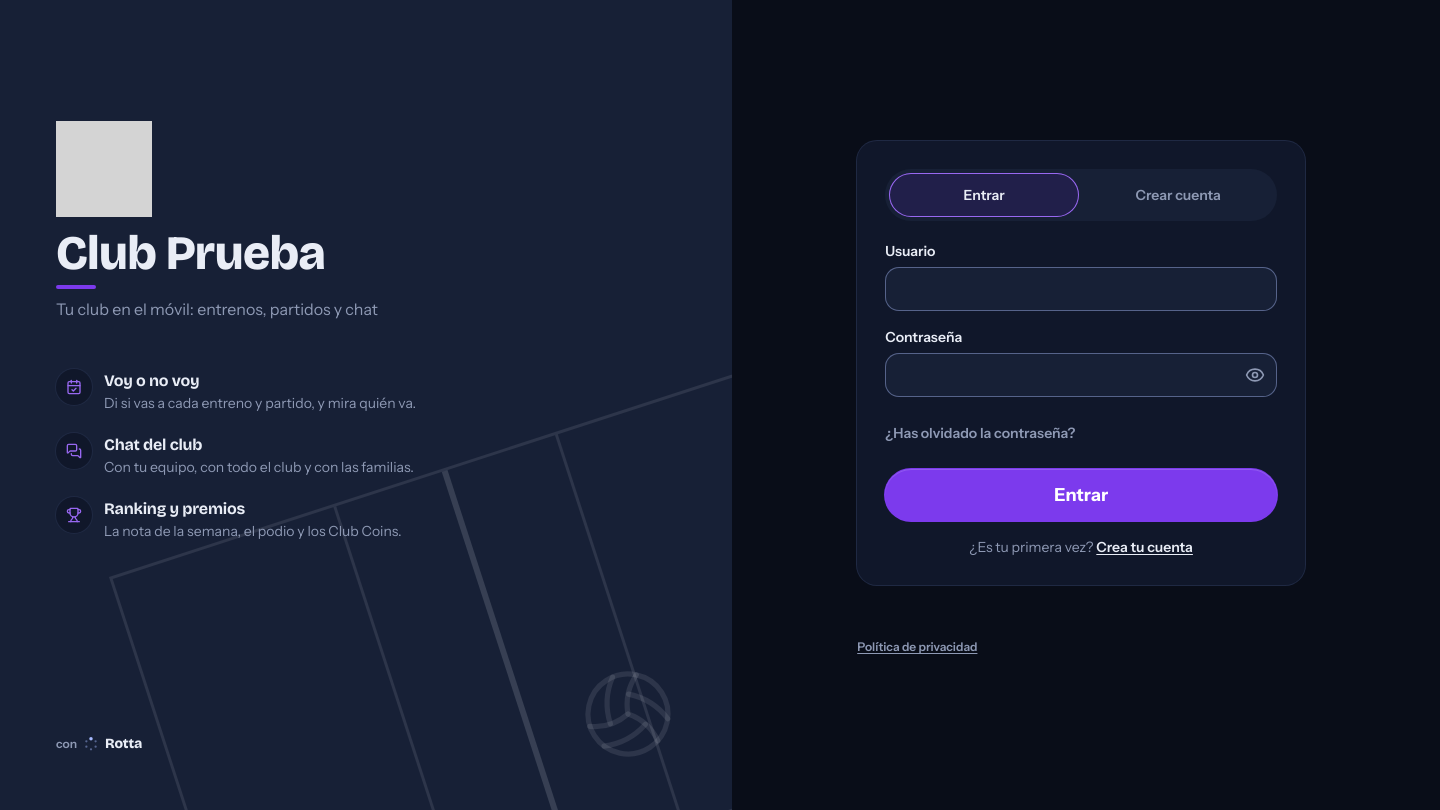
it: LoginPage › demasiados intentos (429): se enseña el aviso del servidor
Step 1. Type "ana.prueba" into the field labelled "Usuario" → (1081, 289), box [885,267,1277,311]
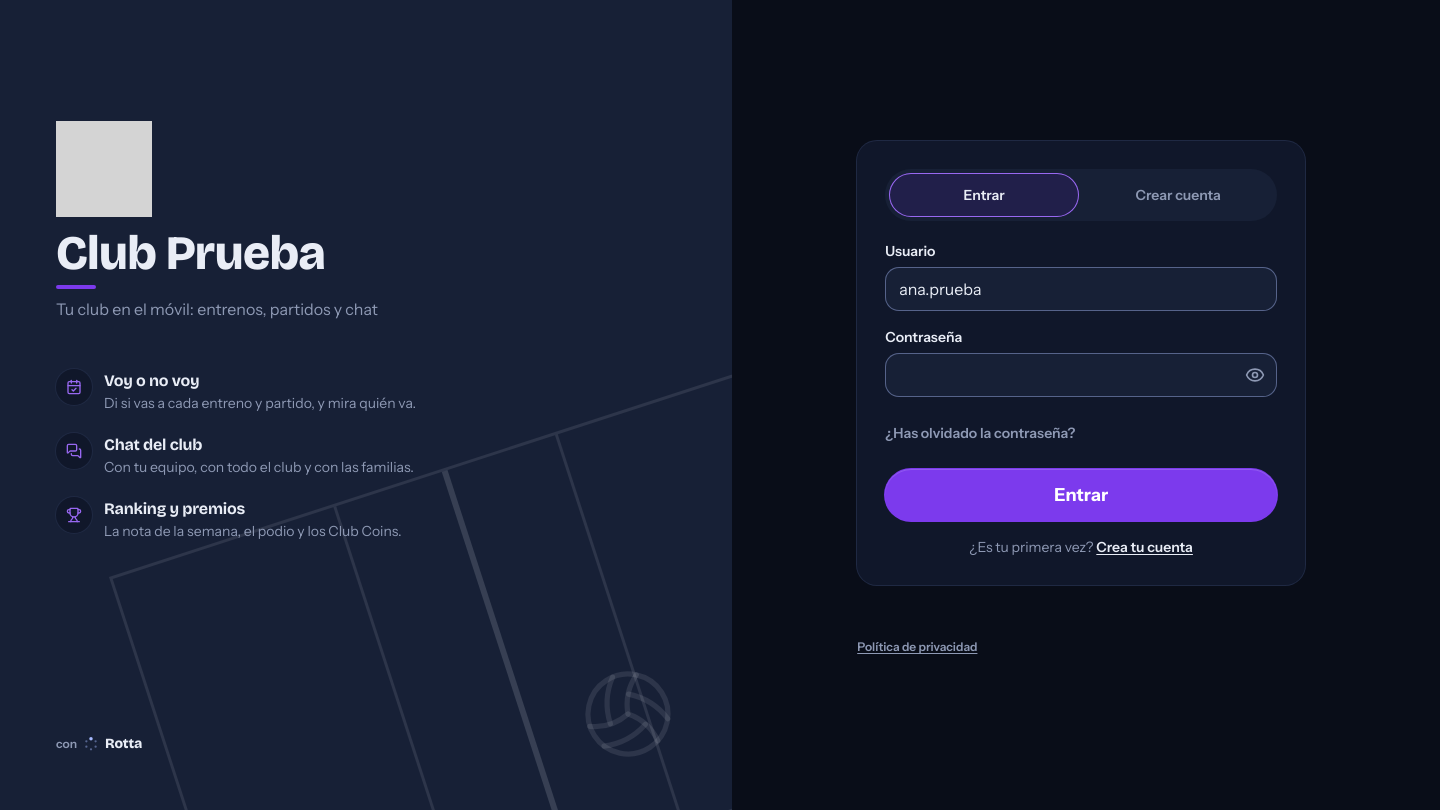
Step 2. Type "mala" into the password field labelled "Contraseña" → (1081, 375), box [885,353,1277,397]
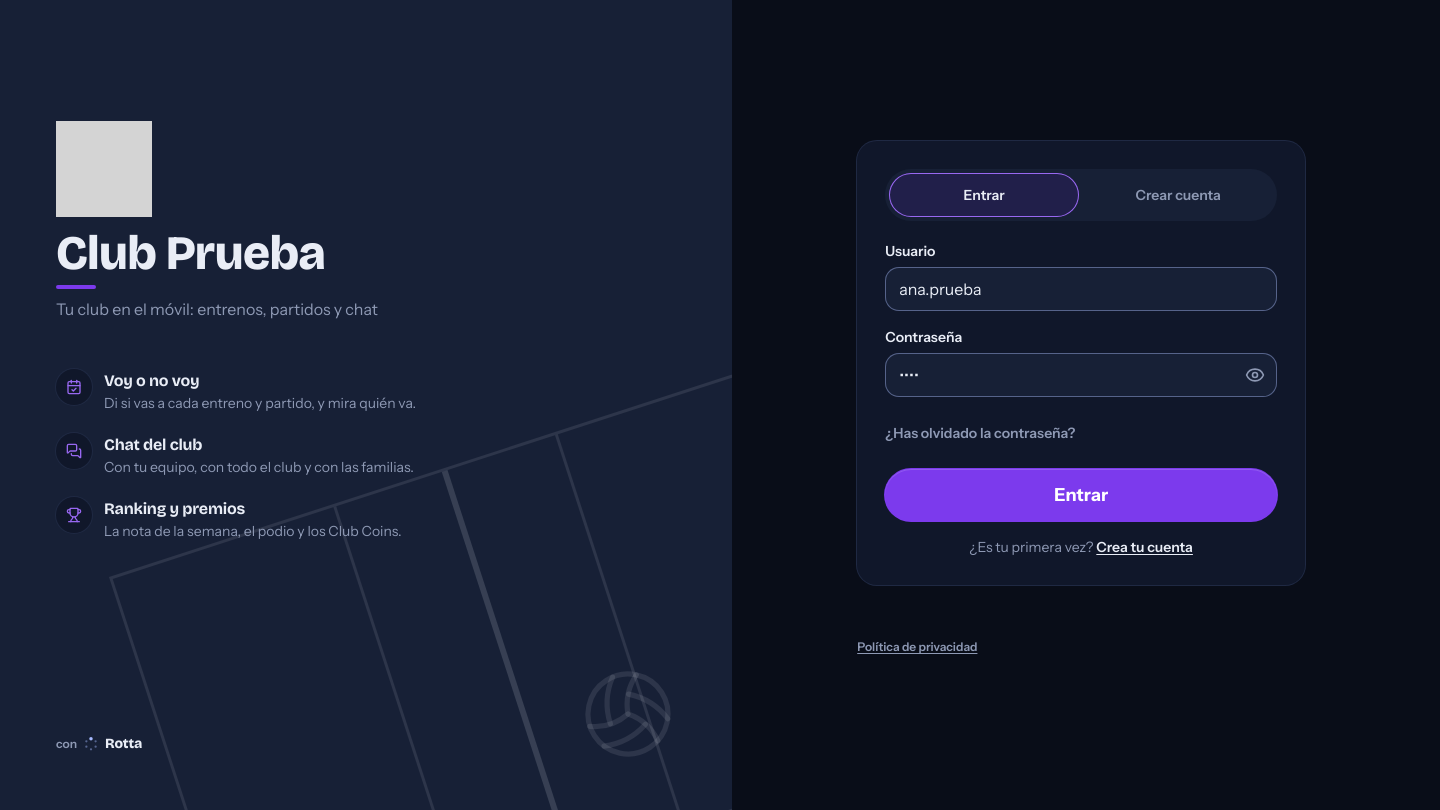
Step 3. Click the button "Entrar" → (1081, 495), box [885,469,1277,521]
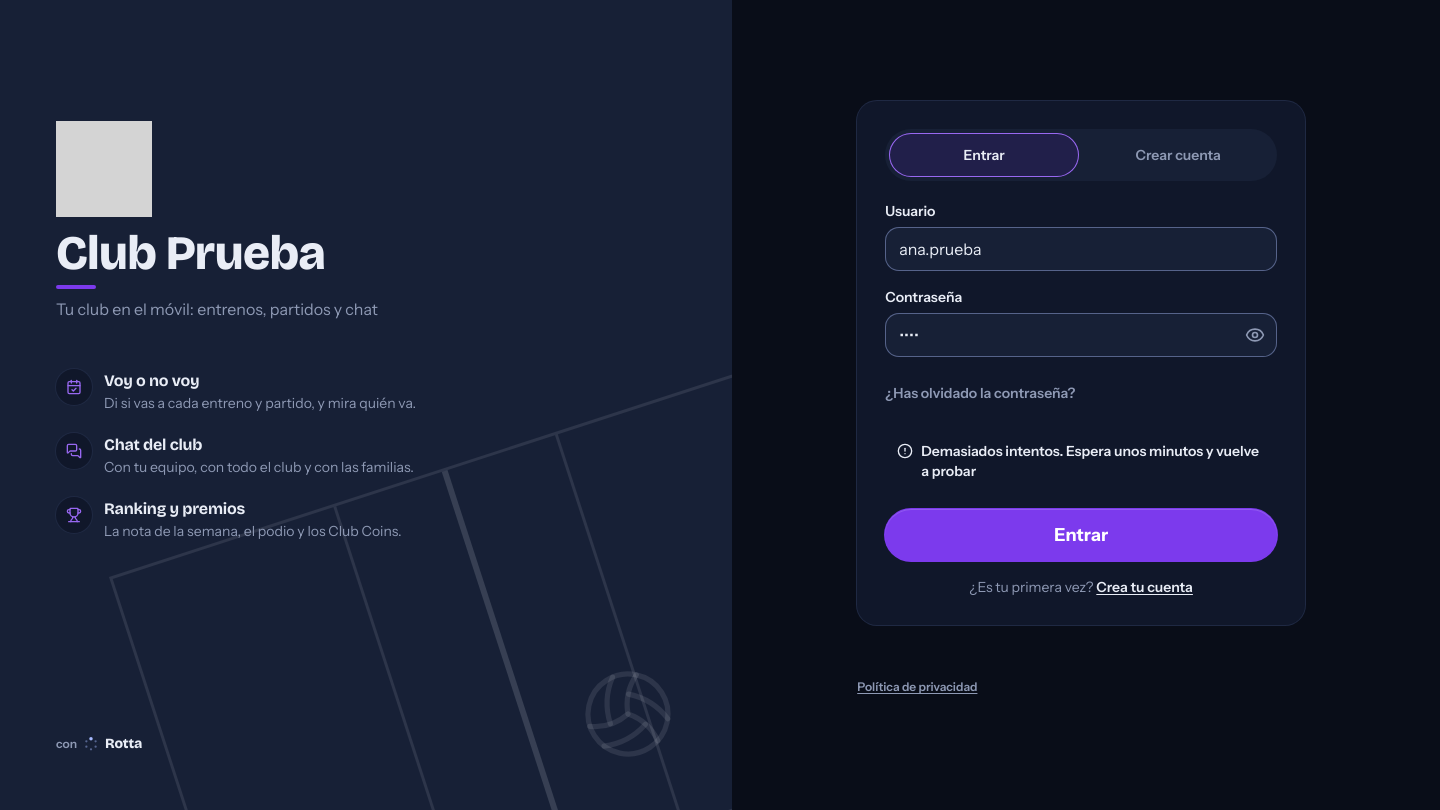
Expected: the message shows "Demasiados intentos", [921,442,1259,480]
